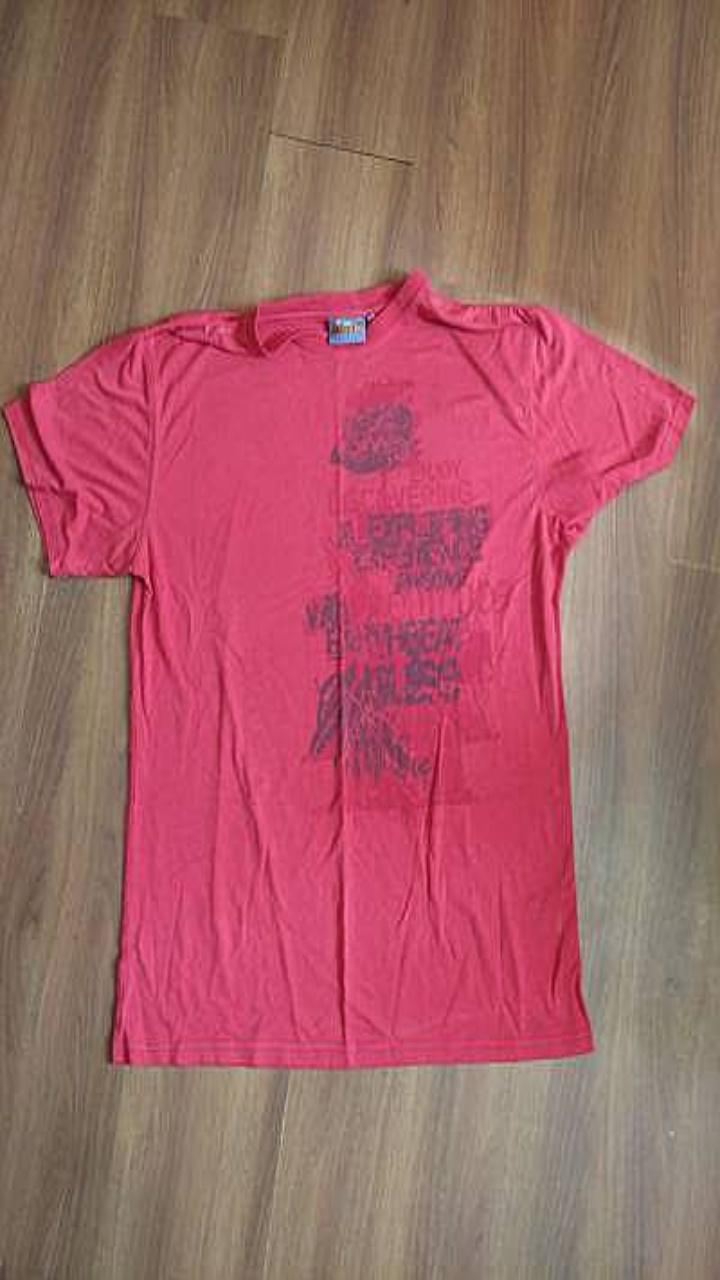T-Shirt: (3, 269, 694, 1067)
